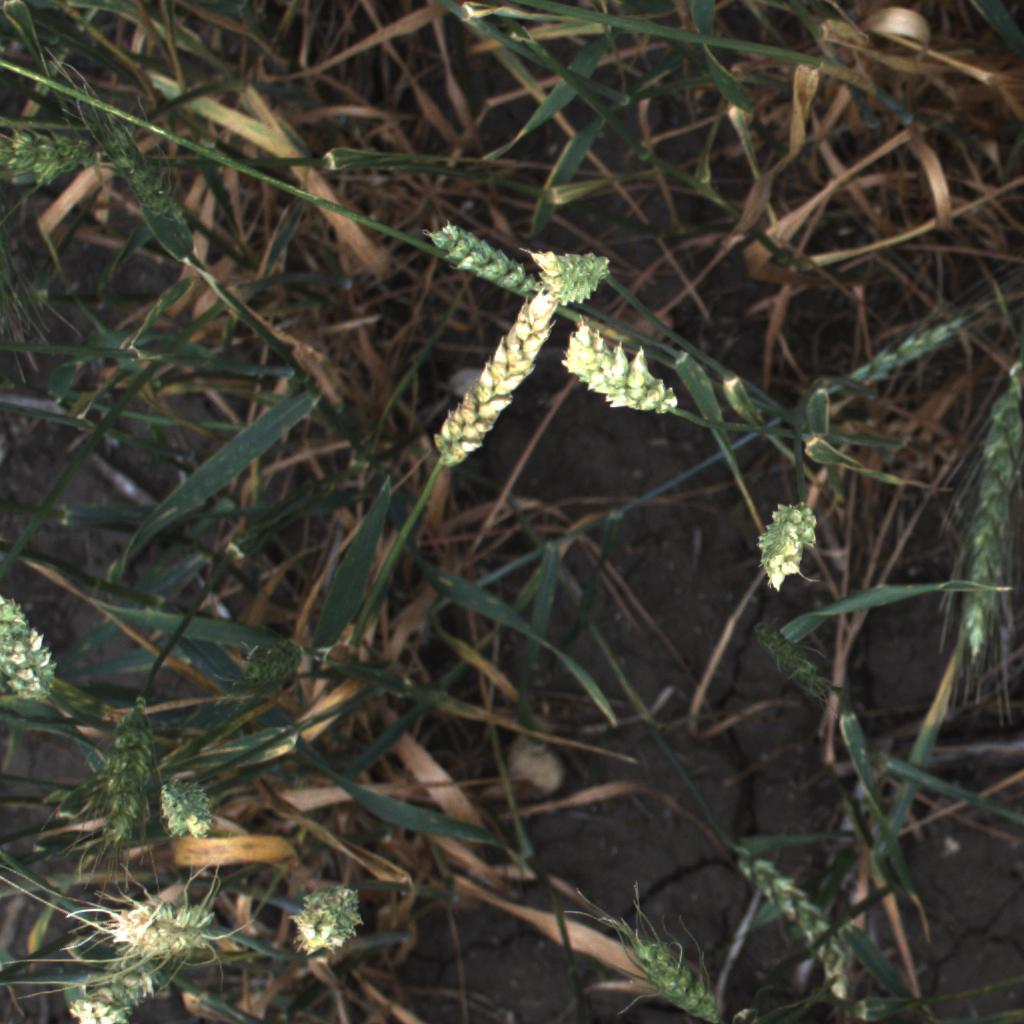0-0: (428, 278, 565, 475), (731, 832, 874, 1001), (946, 361, 1024, 669), (408, 210, 574, 316), (798, 311, 976, 408), (588, 919, 724, 1020), (554, 319, 697, 415), (734, 488, 832, 597), (95, 691, 159, 848), (0, 579, 69, 719), (43, 956, 182, 1024), (97, 892, 225, 962), (0, 110, 91, 200), (278, 883, 371, 968), (519, 235, 622, 308), (161, 761, 230, 849)
